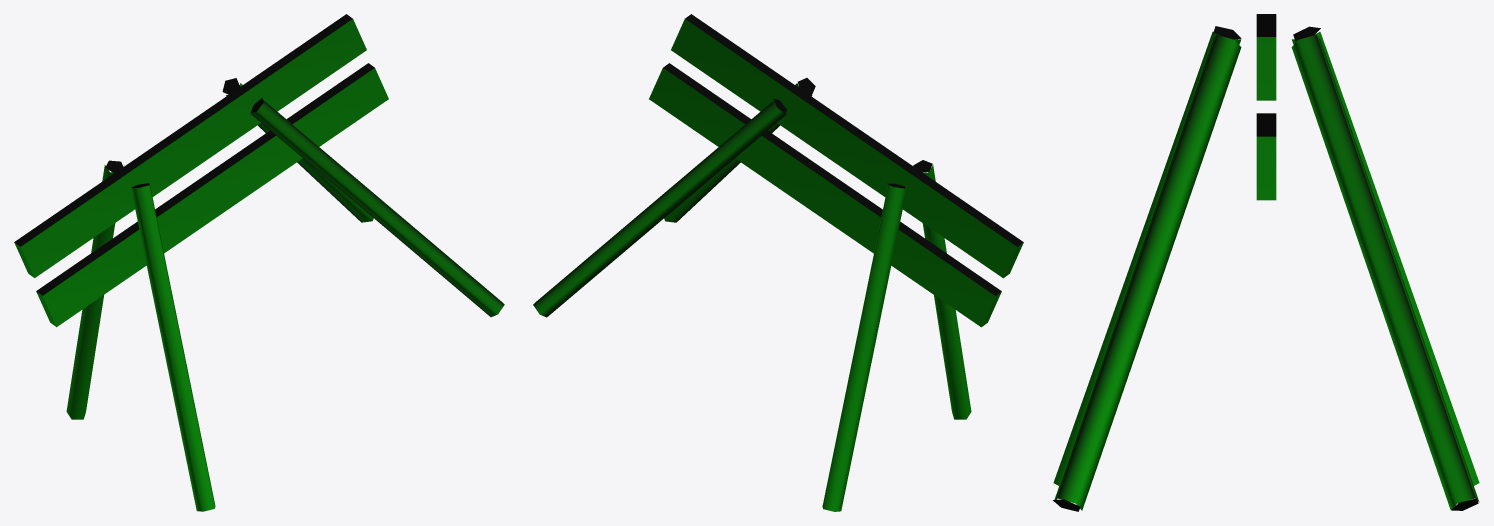
File: sawhorsebarricade_damaged.glb
The picture shows the model from 3 angles, left to right: view 1: azimuth 30°, elevation 25°; view 2: azimuth 150°, elevation 25°; view 3: azimuth 270°, elevation 25°; orthographic projection. The views are drawn at different scales.
Visible parts, largest first — view 1: lod0; view 2: lod0; view 3: lod0.
Boxes of the visible parts, left/top/right/bottom form: lod0: left=14, top=14, right=504, bottom=511; lod0: left=533, top=14, right=1023, bottom=511; lod0: left=1053, top=14, right=1479, bottom=511.
Size of what is drawn, in the model's own units: 1.87 by 1.68 by 1.07.
